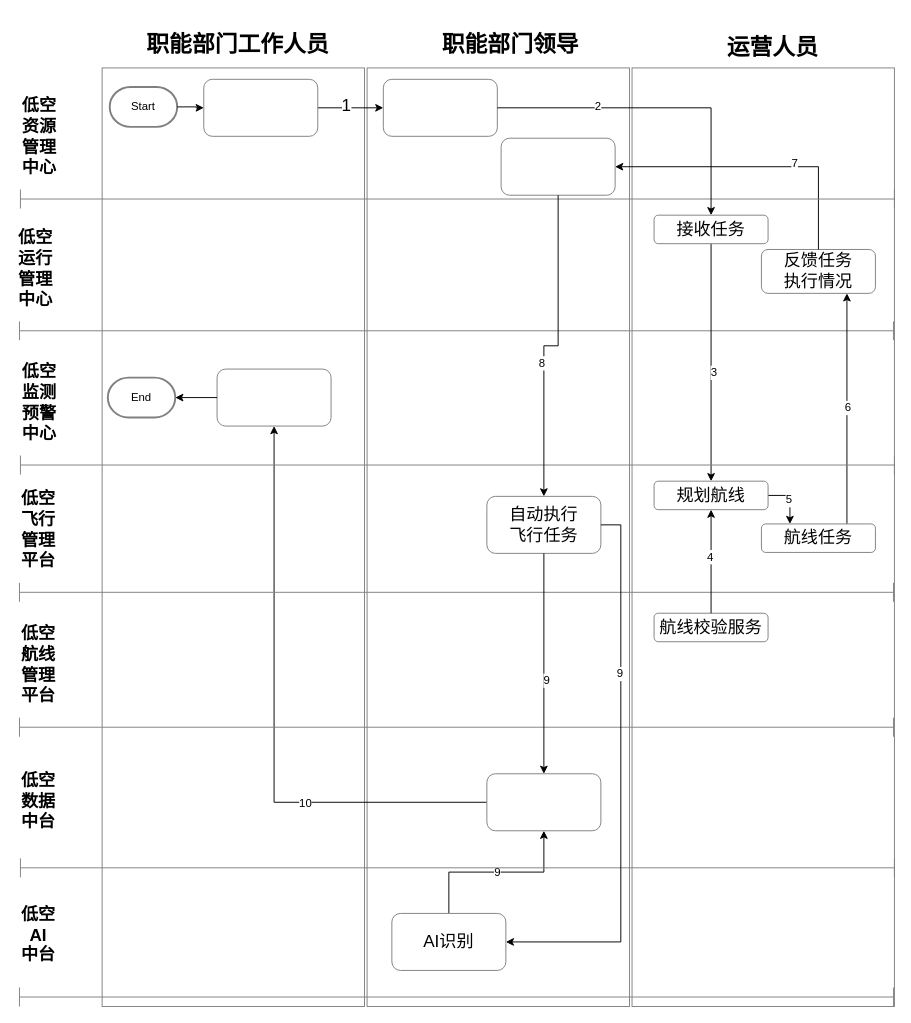
This 911x1023 diagram has some shape labels left out. Each missing label, with the centre of its shape:
提交需求 审批流程: point (260, 107)
查看任务数据: point (273, 397)
职能部门 领导审批: point (439, 107)
航线任务 审批: point (557, 166)
采集数据 数据存储: point (543, 802)
